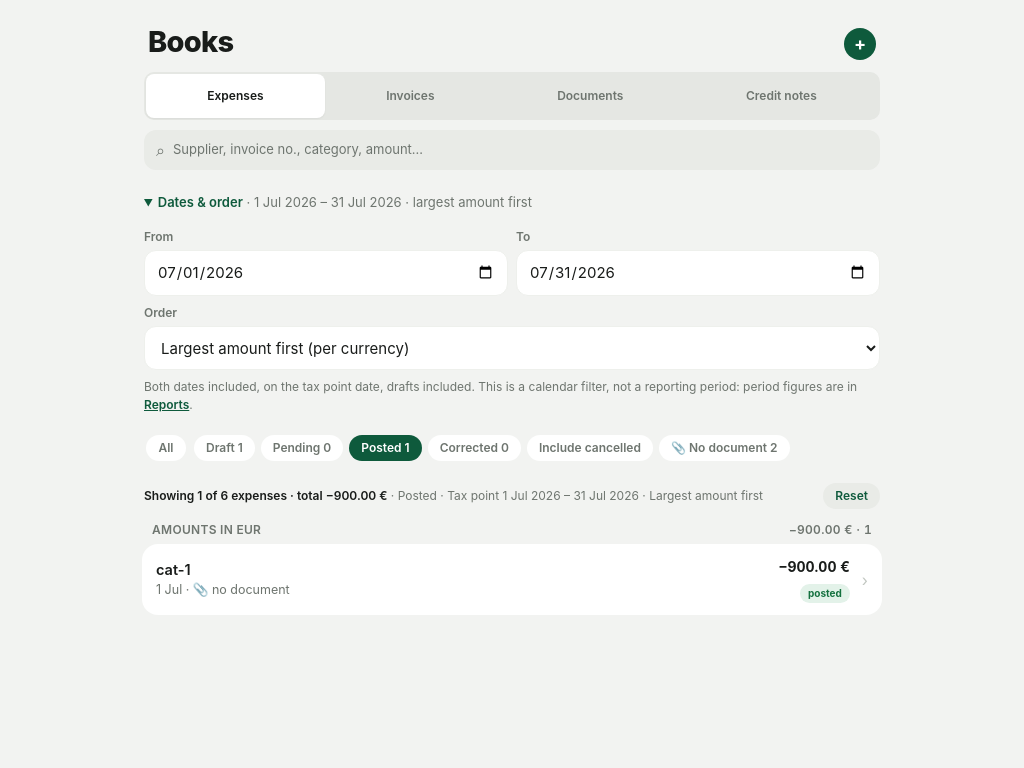
Books date range + order (issue #279) › dates and order carry across a segment switch, visibly; segment filters do not
Click the radio button labelled "Credit notes". click: [781, 96]
box: [746,88,817,103]
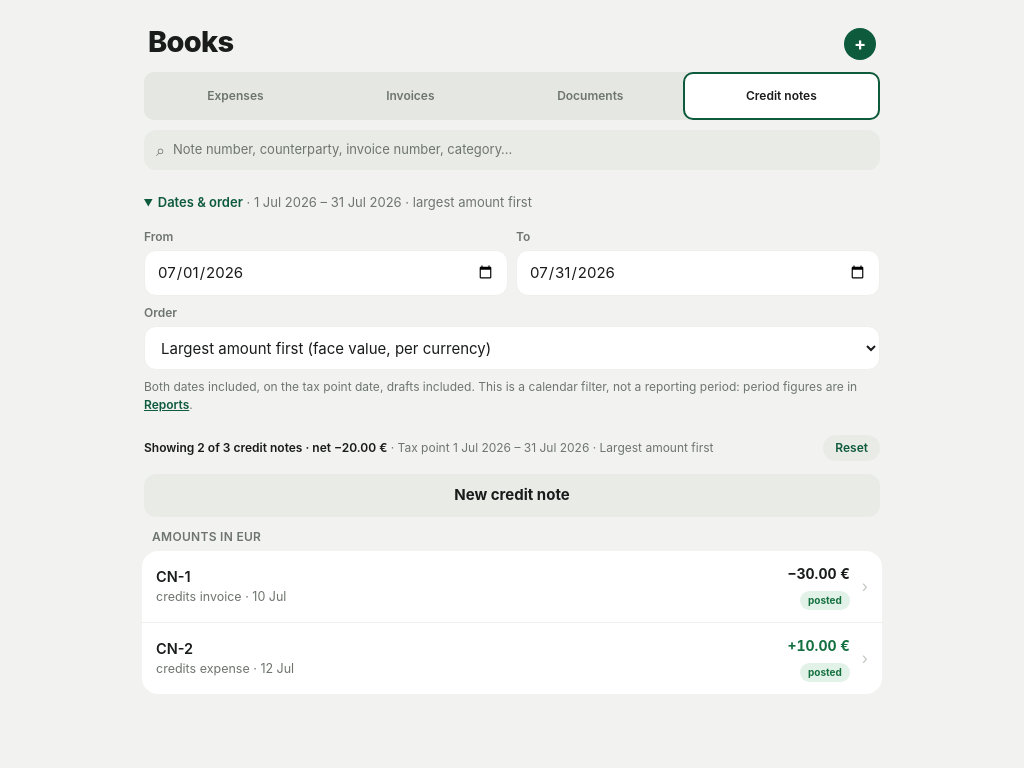
expect the element named "Active filters" shows "Showing 2 of 3 credit notes · net −20.00 € · Tax point 1 Jul 2026 – 31 Jul 2026 · Largest amount first": met, box [128,426,896,474]
Click the radio button labelled "Documents". click: [590, 96]
box: [557,88,623,103]
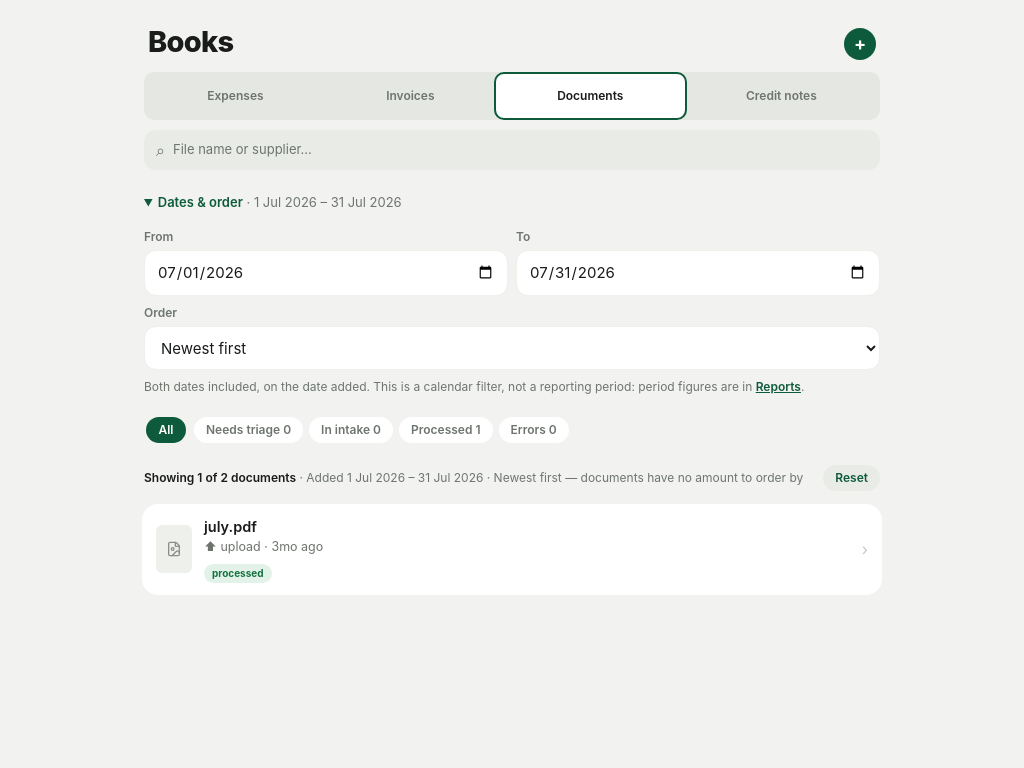
expect the element named "Active filters" shows "Showing 1 of 2 documents · Added 1 Jul 2026 – 31 Jul 2026 · Newest first — documents have no amount to order by": met, box [128,456,896,504]
expect the heading "largest" is gone: met
